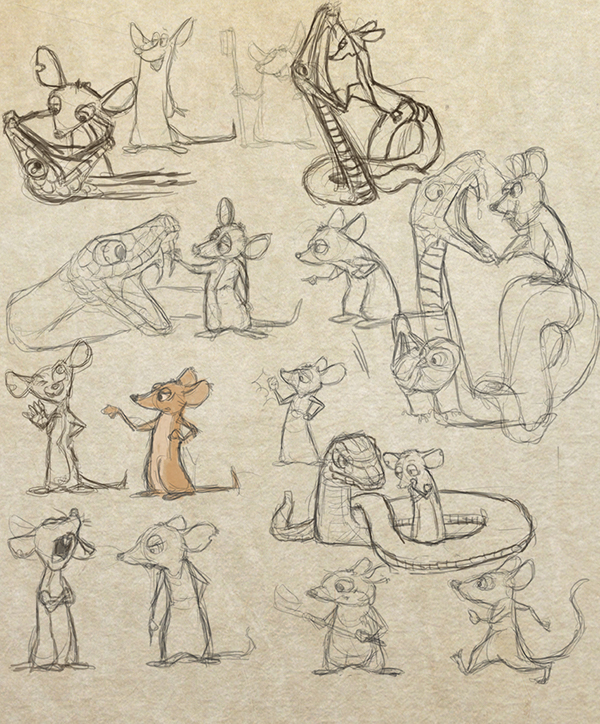cat: (320, 554, 408, 695)
